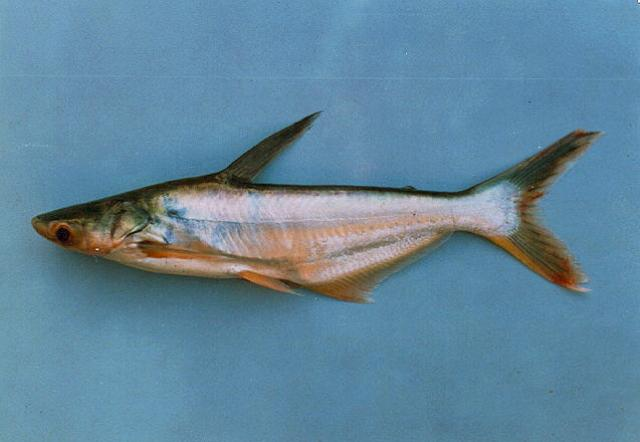Mulut: (30, 206, 78, 256)
Sirip Anal: (295, 220, 471, 304)
Sirip Dada: (126, 223, 224, 275)
Sirip Ekor: (492, 124, 600, 300)
Sirip Perut: (227, 262, 299, 301)
Sirip Punggung: (214, 94, 332, 192)
